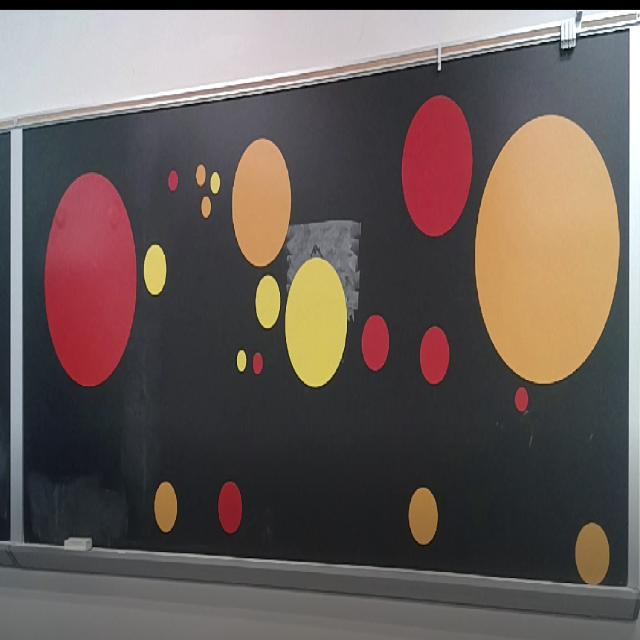Orange: (475, 114, 620, 385), (232, 138, 291, 267), (575, 522, 609, 586), (408, 487, 438, 546), (154, 482, 178, 533), (196, 164, 207, 187), (201, 196, 211, 219)
Red: (44, 170, 137, 387), (402, 94, 474, 237), (420, 325, 450, 385), (361, 314, 390, 372), (218, 481, 242, 534), (515, 387, 529, 412), (253, 352, 263, 374), (169, 170, 178, 193)
Yellow: (285, 257, 347, 388), (255, 275, 281, 329), (144, 245, 167, 295), (210, 172, 221, 194), (237, 351, 247, 373)
